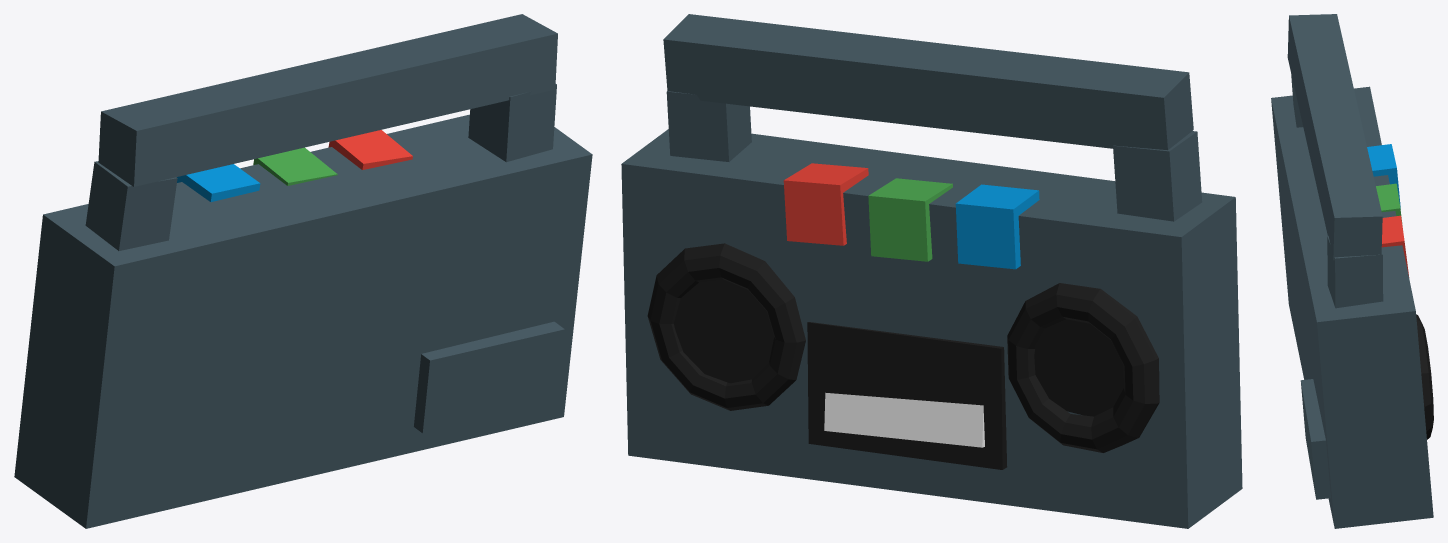
The model's file is boombox.fbx.
The picture shows the model from 3 angles, left to right: view 1: azimuth 30°, elevation 25°; view 2: azimuth 150°, elevation 25°; view 3: azimuth 270°, elevation 25°; orthographic projection. The views are drawn at different scales.
Visible parts, largest first — view 1: mesh_855248273, mesh_1912336999, mesh_1003498978, mesh_1324139573, mesh_1831586527, mesh_1520979037, mesh_1827450239, mesh_875496433; view 2: mesh_855248273, mesh_1912336999, mesh_1265116489, mesh_1775774978, mesh_1362828101, mesh_1334349206, mesh_2084813502, mesh_1338524612, mesh_1324139573, mesh_1827450239, mesh_875496433, mesh_1520979037 (+1 smaller); view 3: mesh_855248273, mesh_1912336999, mesh_1831586527, mesh_1003498978, mesh_1362828101, mesh_1827450239, mesh_1520979037, mesh_875496433, mesh_1324139573.
Boxes of the visible parts, x1=… form: mesh_855248273: x1=14, y1=114, x2=592, y2=528; mesh_1912336999: x1=98, y1=14, x2=557, y2=186; mesh_1003498978: x1=414, y1=321, x2=564, y2=433; mesh_1324139573: x1=85, y1=161, x2=177, y2=250; mesh_1831586527: x1=468, y1=84, x2=556, y2=162; mesh_1520979037: x1=328, y1=130, x2=412, y2=169; mesh_1827450239: x1=176, y1=164, x2=260, y2=201; mesh_875496433: x1=253, y1=147, x2=337, y2=185; mesh_855248273: x1=621, y1=129, x2=1242, y2=528; mesh_1912336999: x1=663, y1=14, x2=1193, y2=150; mesh_1265116489: x1=807, y1=322, x2=1007, y2=469; mesh_1775774978: x1=1007, y1=283, x2=1159, y2=452; mesh_1362828101: x1=647, y1=243, x2=805, y2=410; mesh_1334349206: x1=673, y1=279, x2=773, y2=383; mesh_2084813502: x1=1034, y1=319, x2=1123, y2=416; mesh_1338524612: x1=824, y1=392, x2=984, y2=447; mesh_1324139573: x1=1113, y1=131, x2=1202, y2=221; mesh_1827450239: x1=955, y1=184, x2=1039, y2=269; mesh_875496433: x1=868, y1=178, x2=952, y2=261; mesh_1520979037: x1=783, y1=163, x2=868, y2=245; mesh_855248273: x1=1271, y1=86, x2=1433, y2=528; mesh_1912336999: x1=1287, y1=14, x2=1382, y2=260; mesh_1831586527: x1=1327, y1=235, x2=1383, y2=308; mesh_1003498978: x1=1300, y1=379, x2=1330, y2=499; mesh_1362828101: x1=1416, y1=314, x2=1433, y2=439; mesh_1827450239: x1=1367, y1=144, x2=1400, y2=208; mesh_1520979037: x1=1381, y1=215, x2=1409, y2=277; mesh_875496433: x1=1376, y1=183, x2=1402, y2=225; mesh_1324139573: x1=1291, y1=73, x2=1303, y2=127.
Size of the model in its own units: 81.7 by 61.13 by 26.92.
